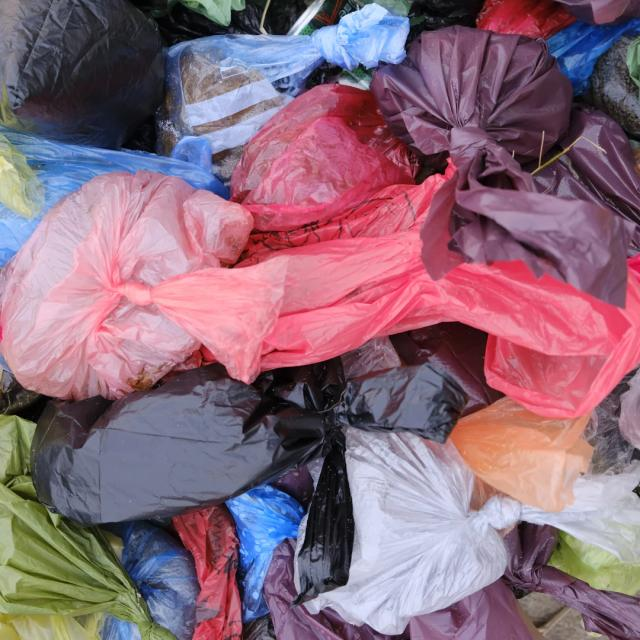Single-layer Plastic: (371, 26, 634, 306), (261, 230, 640, 418), (1, 171, 286, 399), (31, 364, 328, 525), (304, 428, 521, 634), (0, 415, 176, 640), (158, 4, 409, 154), (0, 126, 229, 266), (231, 85, 418, 231), (409, 522, 640, 640), (0, 0, 165, 148), (254, 322, 502, 414), (236, 174, 445, 268), (450, 398, 594, 512), (534, 106, 640, 256), (262, 539, 409, 640), (291, 428, 355, 607), (520, 469, 640, 561), (226, 485, 305, 622), (334, 362, 469, 442), (120, 521, 200, 640), (172, 505, 241, 639), (546, 18, 640, 94), (549, 531, 640, 595), (476, 0, 576, 39)
